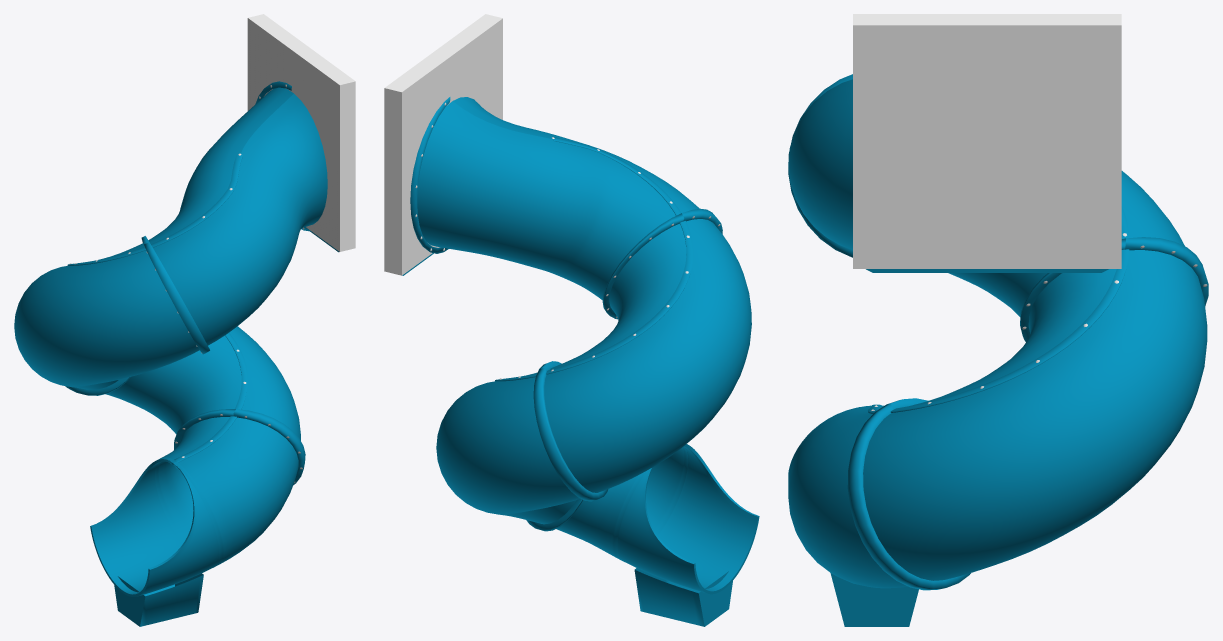
File: TTWS-7.db31cad1.glb
3 renders of one model, left to right at view 1: azimuth 30°, elevation 25°; view 2: azimuth 150°, elevation 25°; view 3: azimuth 270°, elevation 25°, orthographic. The views are drawn at different scales.
Visible parts, largest first — view 1: NurbsPath001,_colorize_, joint_c,1,8; view 2: NurbsPath001,_colorize_, joint_c,1,8; view 3: NurbsPath001,_colorize_, joint_c,1,8.
Boxes of the visible parts, box(x1,y1,x2,y2) form: NurbsPath001,_colorize_: box(14, 81, 338, 626); joint_c,1,8: box(247, 14, 355, 251); NurbsPath001,_colorize_: box(402, 97, 759, 626); joint_c,1,8: box(384, 14, 502, 275); NurbsPath001,_colorize_: box(788, 74, 1208, 626); joint_c,1,8: box(853, 14, 1121, 268).
Bounding box in the file's own units: 1.71 × 2.94 × 1.56.
